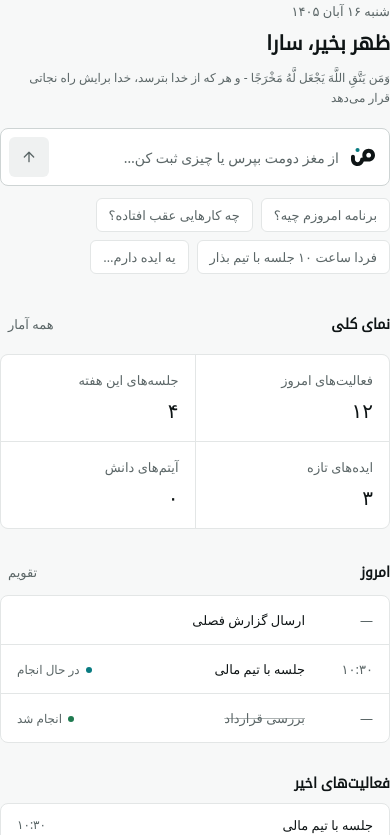
Test: Home dashboard › shows the headline counts in Persian digits
Expected: the text "۱۲" is shown, left=352, top=397, right=373, bottom=424
Expected: the text "فعالیت‌های امروز" is shown, left=281, top=371, right=373, bottom=389
What coordinates should you click on to do the following:
click the button "همه آمار"
I would click on:
 (31, 324)
Its box is left=0, top=302, right=62, bottom=346.
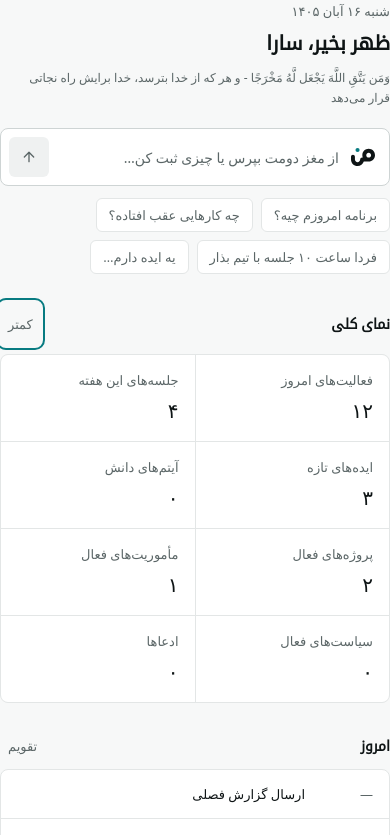
Now the text "پروژه‌های فعال" is shown, box left=293, top=545, right=373, bottom=563
